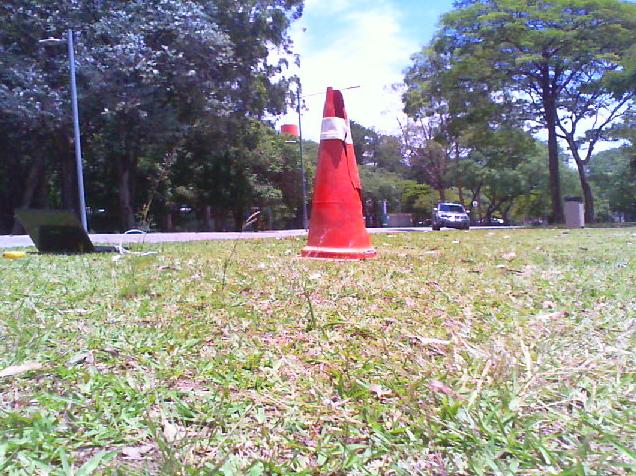0 cone: (301, 86, 379, 262)
